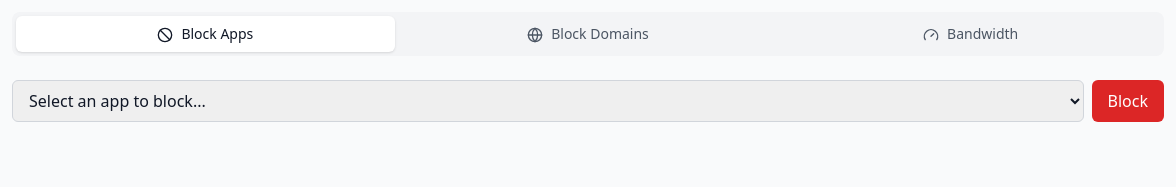
Test: awaits domain saves, prevents duplicate submission and preserves input after rejection
Click the button "Block Domains" at [588, 34], box [399, 16, 777, 52]
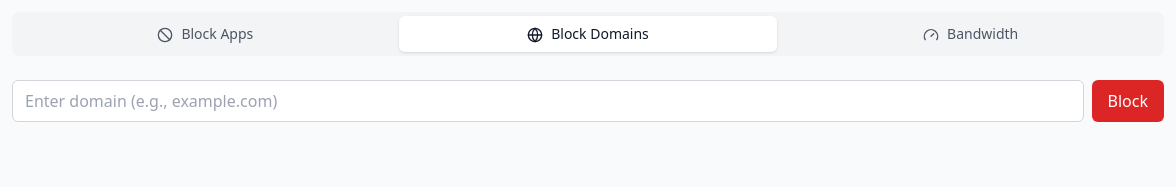
Type "example.com" into the field with placeholder "Enter domain (e.g., example.com)" at [548, 101], box [12, 80, 1084, 122]
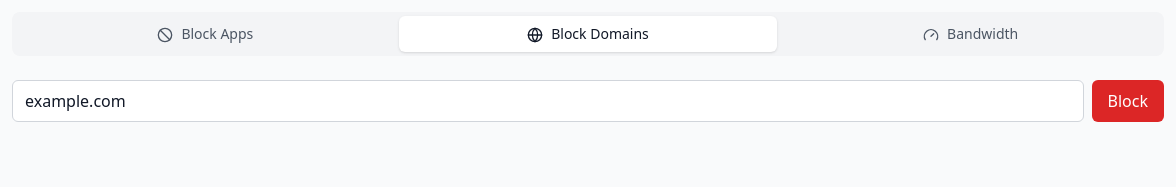
Click the button "Block" at [1128, 101], box [1092, 80, 1164, 122]
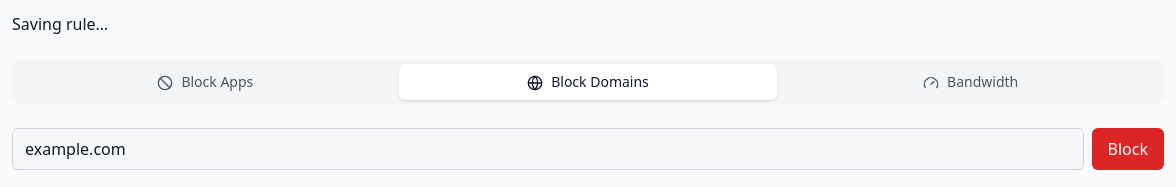
Click the button "Block" at [1128, 149], box [1092, 128, 1164, 170]
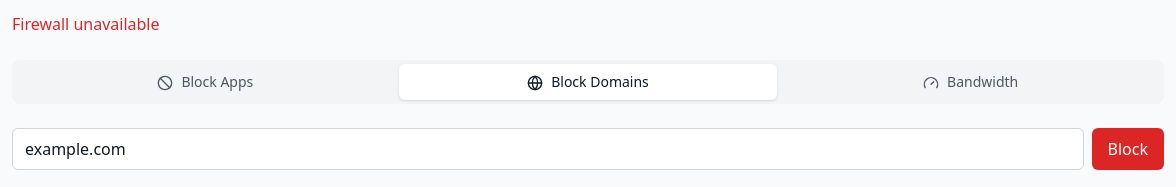
expect the message reads "Firewall unavailable": met, box [12, 13, 160, 35]
